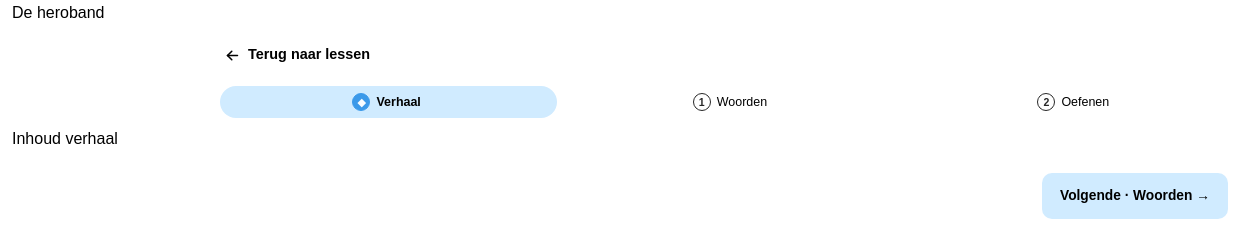
Scenario: ChapterExperience › renders the hero above the nav on the cover only
Expected: the text "De heroband" is shown, 12,4 -> 104,21
Click the button "1 Woorden". click: (732, 102)
box: 563,86 -> 901,118
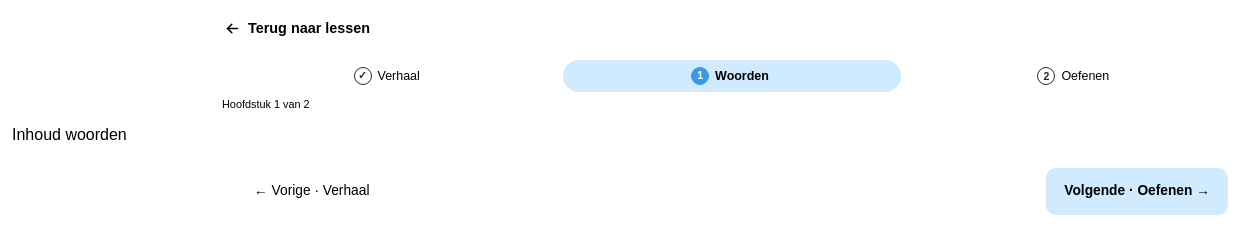
Now the text "De heroband" is gone
